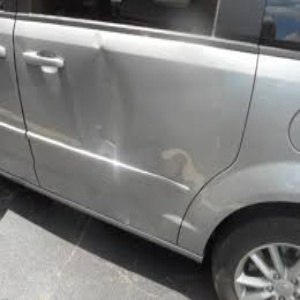door_scratch: (32, 115, 203, 191)
